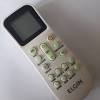remote control: (0, 6, 93, 100)
